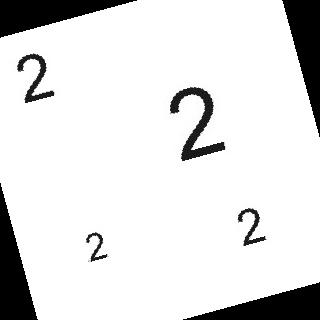two: (157, 86, 234, 163), (10, 53, 60, 103), (231, 207, 271, 247), (80, 232, 110, 262)
